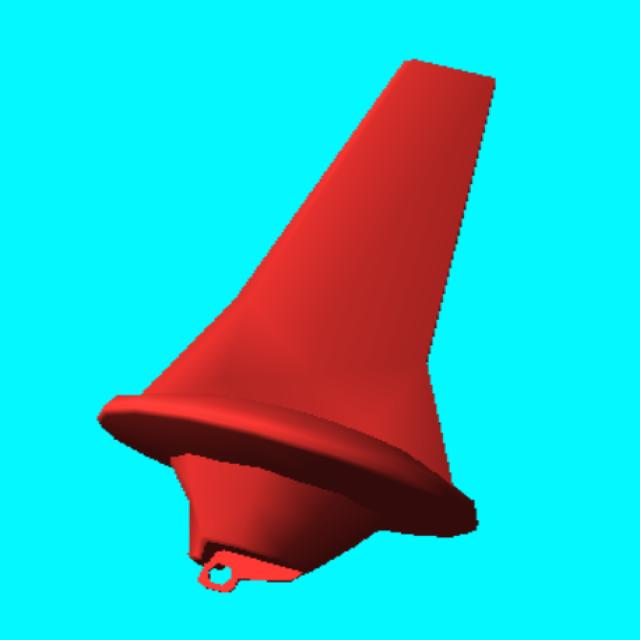RedBuoy: (101, 61, 494, 591)
